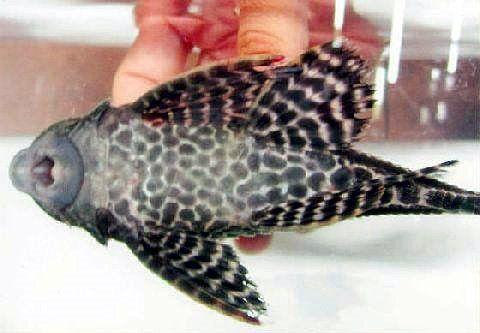Janitor Fish: (9, 41, 480, 326)
